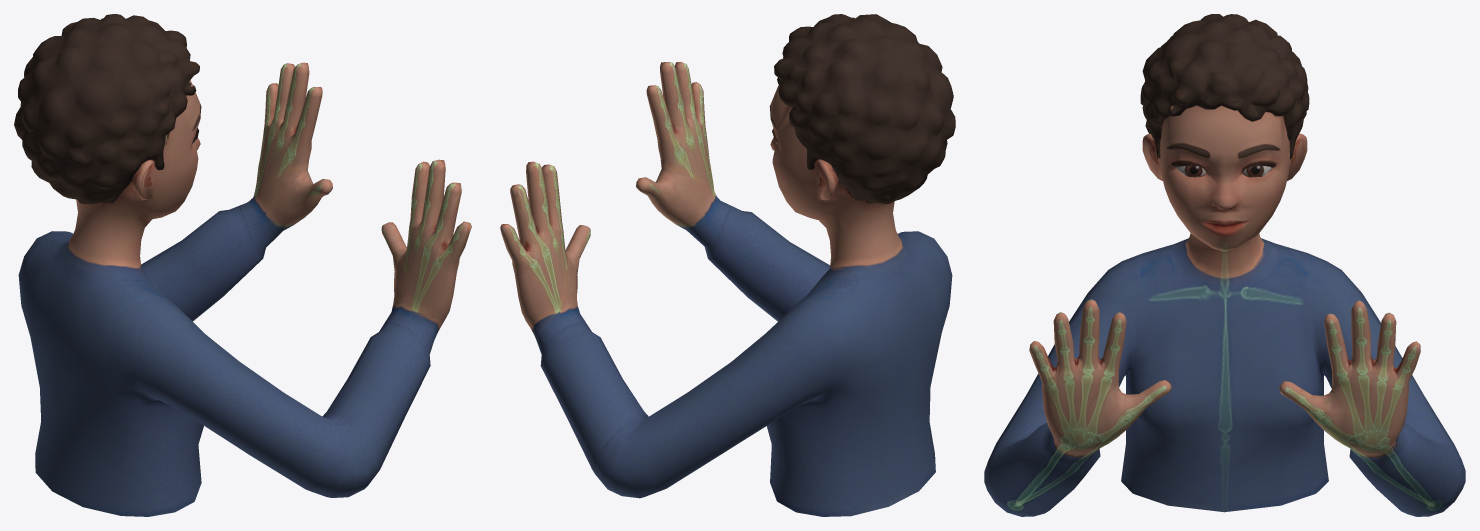
The model's file is mymodel.glb.
3 renders of one model, left to right at view 1: azimuth 30°, elevation 25°; view 2: azimuth 150°, elevation 25°; view 3: azimuth 270°, elevation 25°, orthographic.
Visible parts, largest first — view 1: tripo_node_e68b7f03-f166-40c1-9e90-619d80d9edc5; view 2: tripo_node_e68b7f03-f166-40c1-9e90-619d80d9edc5; view 3: tripo_node_e68b7f03-f166-40c1-9e90-619d80d9edc5.
Boxes of the visible parts, x1,y1,x2,y2 form: tripo_node_e68b7f03-f166-40c1-9e90-619d80d9edc5: (14, 14, 471, 516); tripo_node_e68b7f03-f166-40c1-9e90-619d80d9edc5: (500, 14, 955, 516); tripo_node_e68b7f03-f166-40c1-9e90-619d80d9edc5: (984, 14, 1465, 516).
Bounding box in the file's own units: 0.8066 × 0.998 × 0.9629.
1 material, 1 textured.
